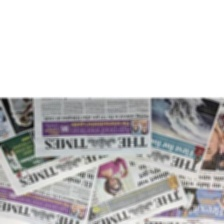news_paper: (0, 97, 118, 197), (135, 103, 224, 224), (110, 98, 223, 181), (31, 97, 153, 157), (0, 161, 101, 224), (93, 158, 189, 223)
